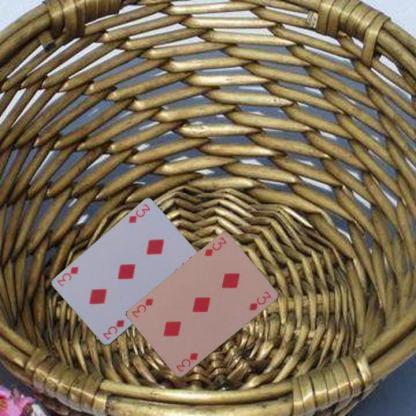3d: (100, 317, 126, 342), (174, 350, 200, 374), (202, 235, 229, 258), (126, 201, 151, 224)
